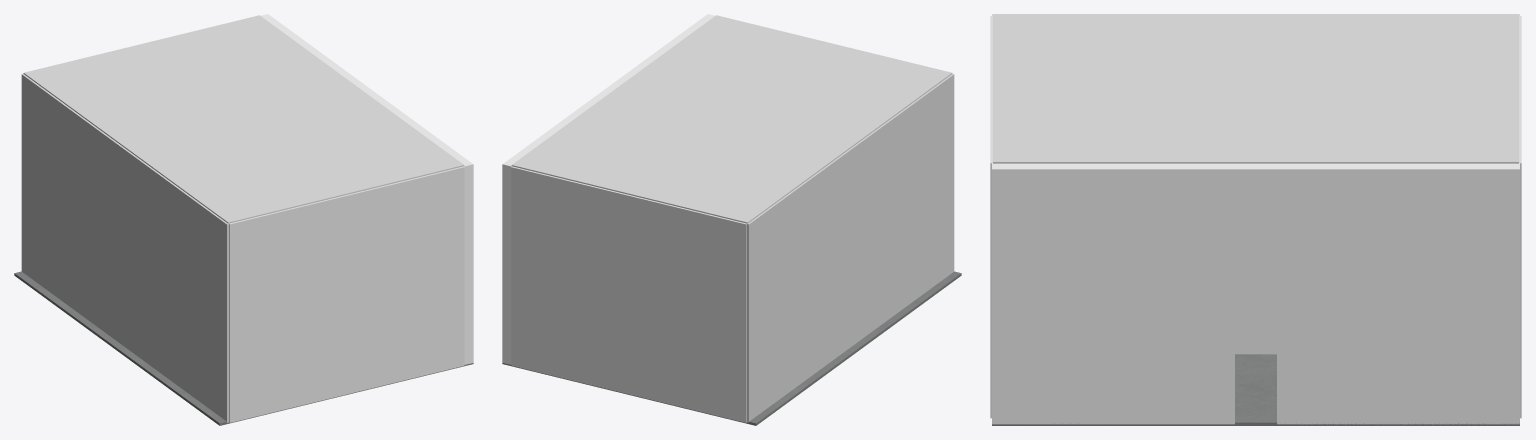
Rendered from RoooLoom_v2.gltf.
The picture shows the model from 3 angles, left to right: view 1: azimuth 30°, elevation 25°; view 2: azimuth 150°, elevation 25°; view 3: azimuth 270°, elevation 25°; orthographic projection. The views are drawn at different scales.
Visible parts, largest first — view 1: roof, wall_02, wall_03, wall_01_entrance, floor; view 2: roof, wall_04, wall_03, wall_01_entrance, floor; view 3: wall_01_entrance, roof, floor, wall_04, wall_02.
Part boxes in pixels (bbox=[...]): roof: bbox=[23, 15, 464, 223]; wall_02: bbox=[229, 166, 464, 422]; wall_03: bbox=[21, 73, 229, 422]; wall_01_entrance: bbox=[261, 14, 473, 364]; floor: bbox=[14, 271, 473, 425]; roof: bbox=[511, 15, 952, 223]; wall_04: bbox=[511, 166, 746, 422]; wall_03: bbox=[746, 73, 954, 422]; wall_01_entrance: bbox=[502, 14, 714, 364]; floor: bbox=[502, 271, 961, 425]; wall_01_entrance: bbox=[992, 163, 1519, 424]; roof: bbox=[993, 14, 1518, 163]; floor: bbox=[992, 354, 1519, 425]; wall_04: bbox=[1519, 16, 1521, 418]; wall_02: bbox=[990, 16, 992, 418].
Size of the model in its own units: 1070 by 810 by 1510.
27 materials, 12 textured.
